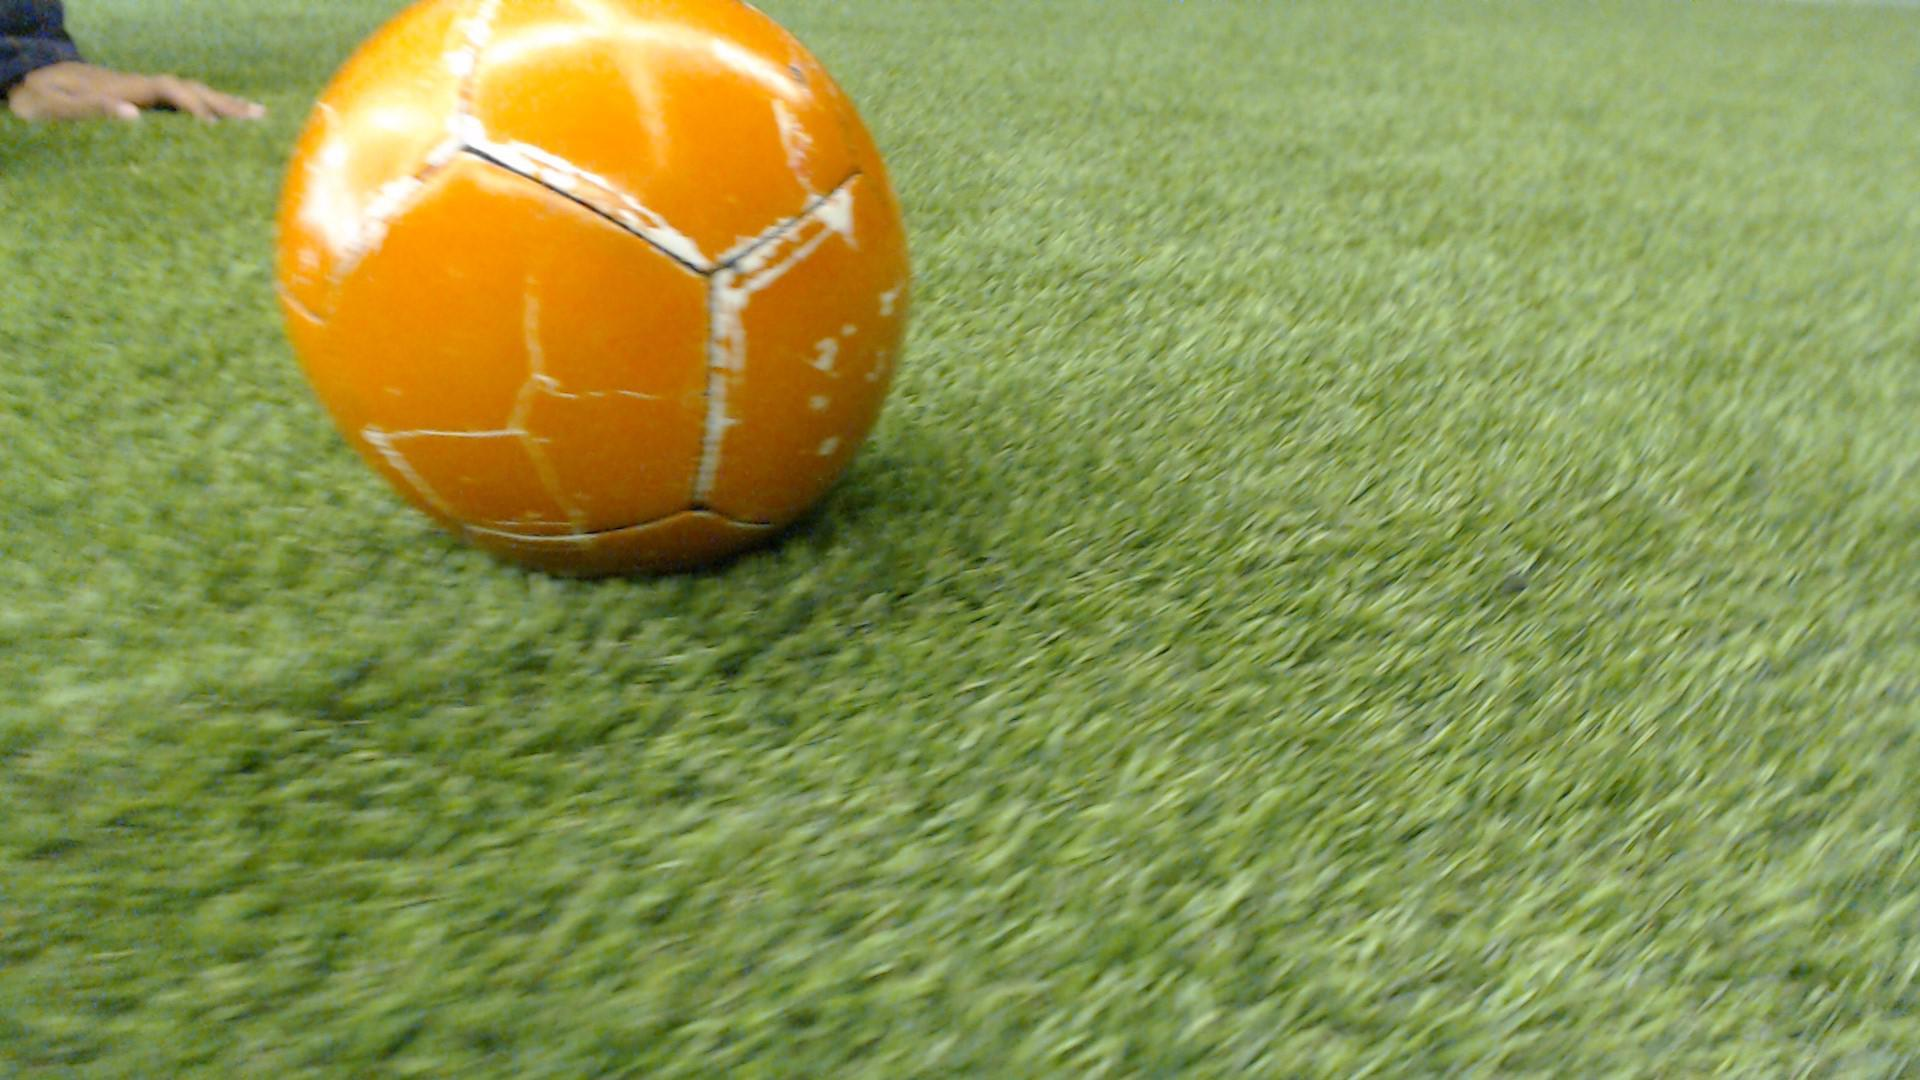bola: (255, 0, 968, 626)
